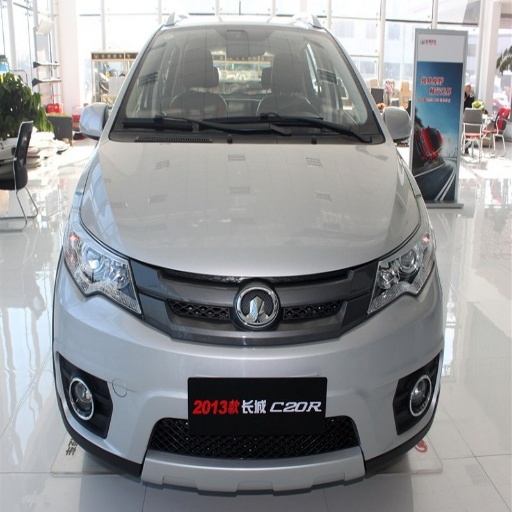front_bumper: (64, 258, 438, 510)
front_right_light: (63, 213, 141, 315)
hood: (83, 139, 419, 276)
